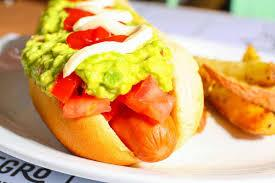Completos: (21, 0, 209, 163)
